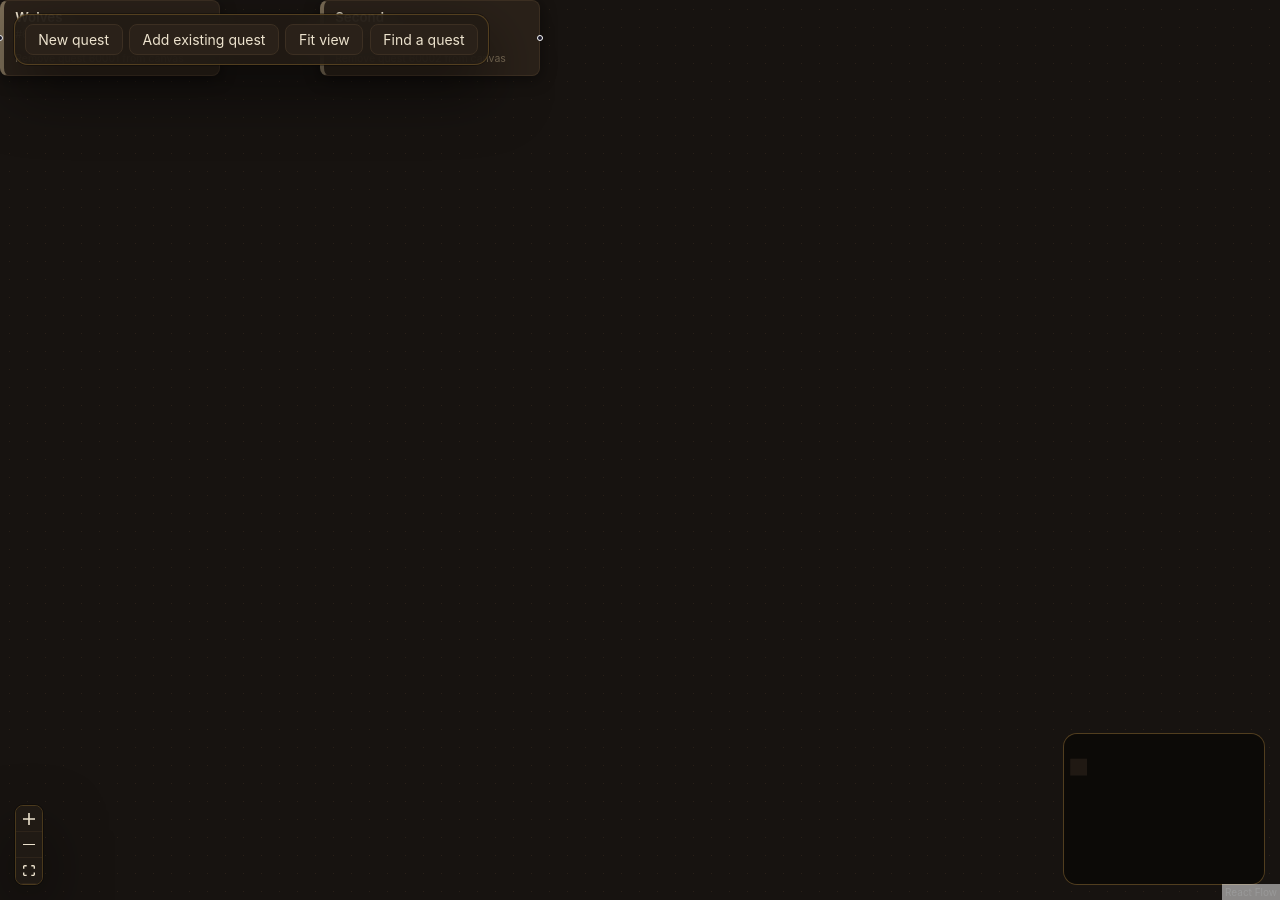
Scenario: ChainDock › adds an existing quest with its whole chain through search and places it
The width and height of the screenshot is (1280, 900).
Click the button "Add existing quest": (204, 40) [129, 24, 279, 55]
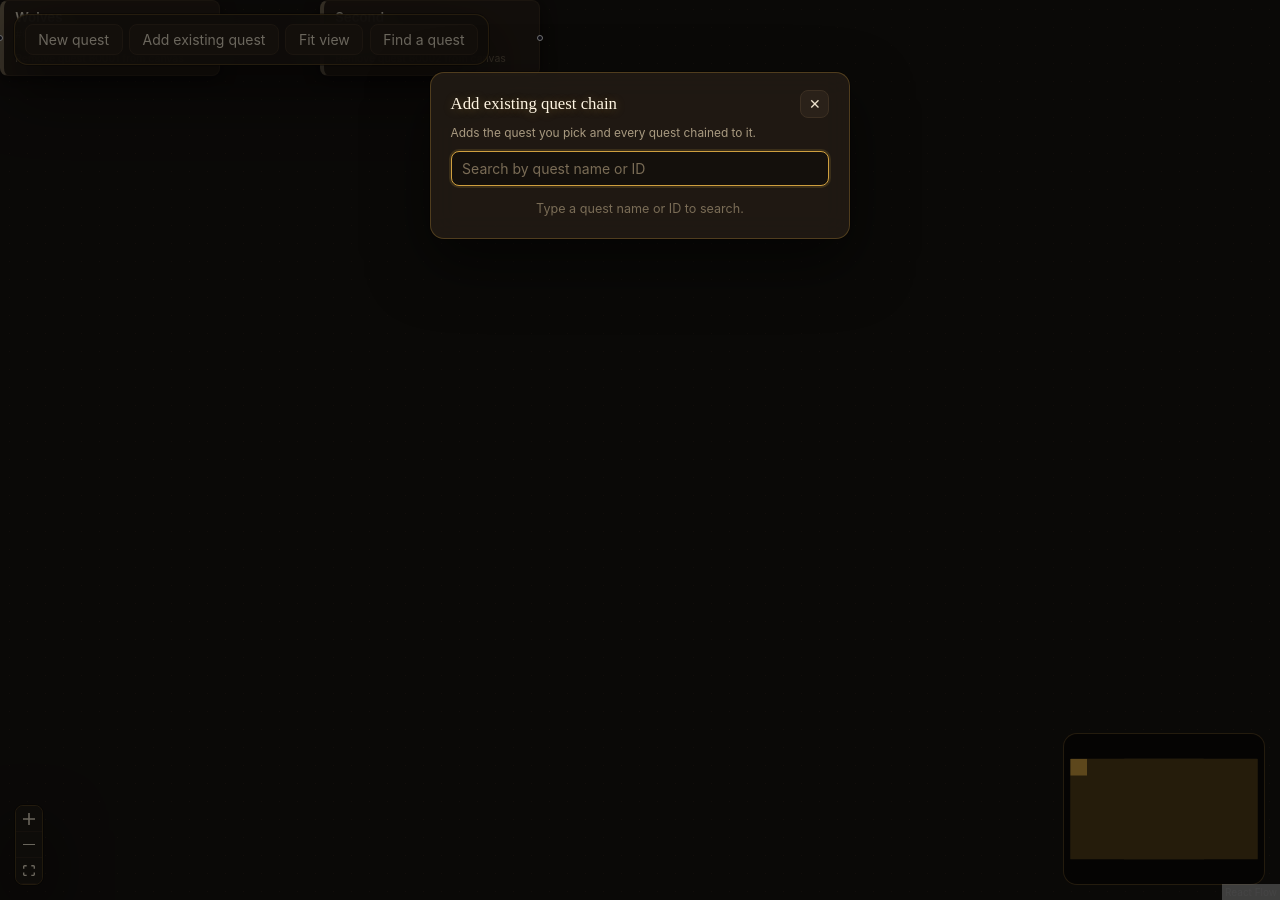
In the search field: (640, 168) [451, 150, 829, 186], type "wolves"
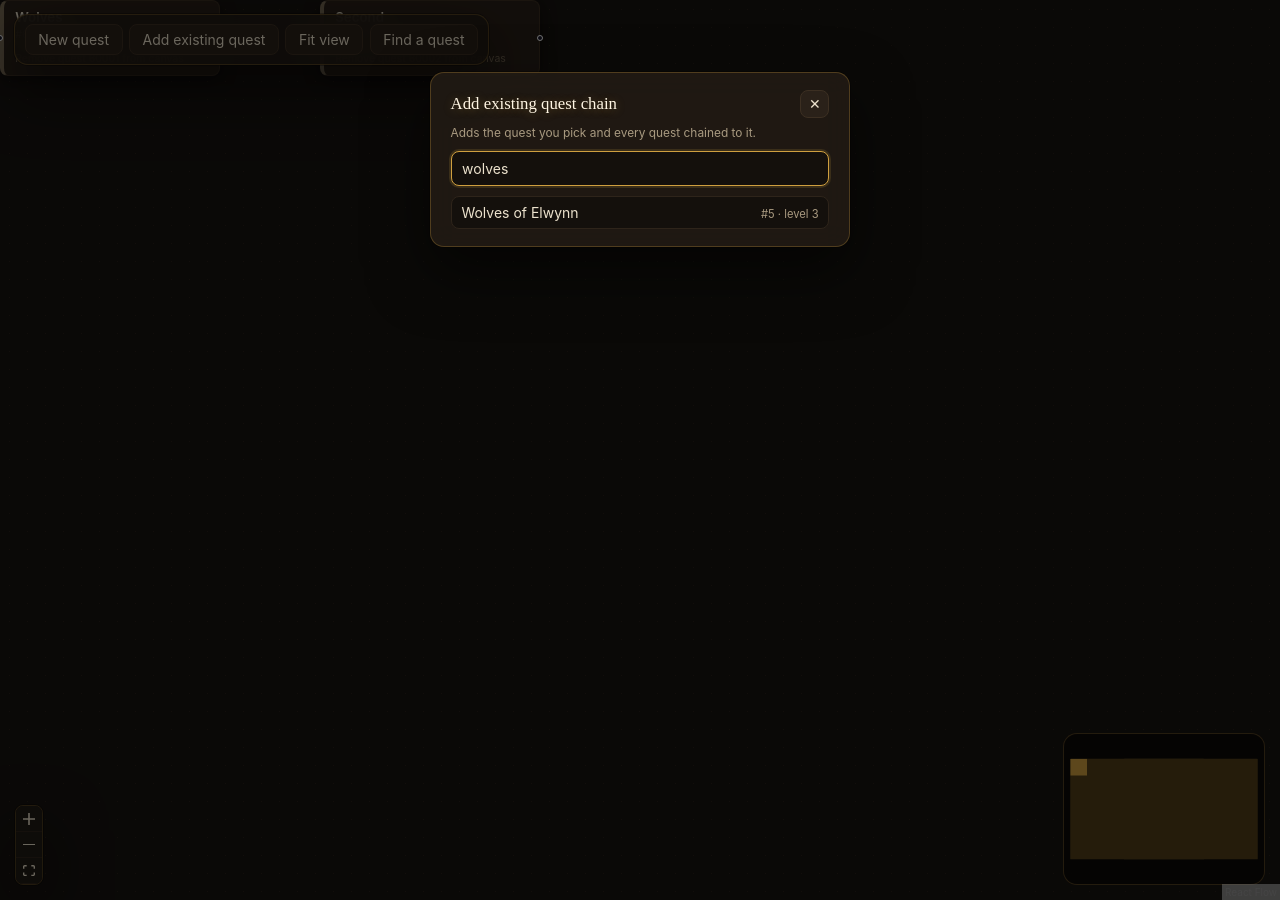
Click the button "Wolves of Elwynn #5 · level 3": (520, 213) [451, 196, 829, 229]
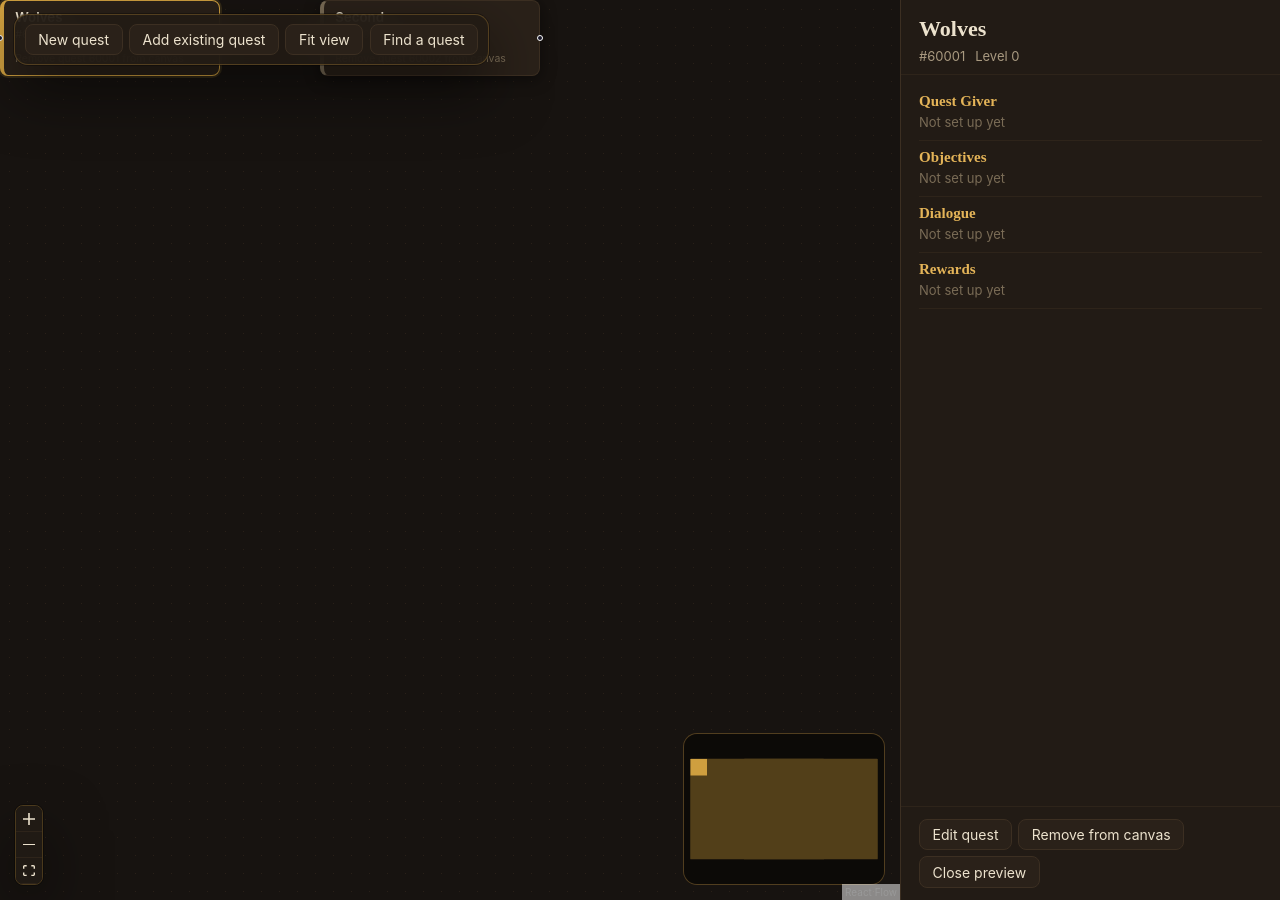
Result: the dialog is gone
